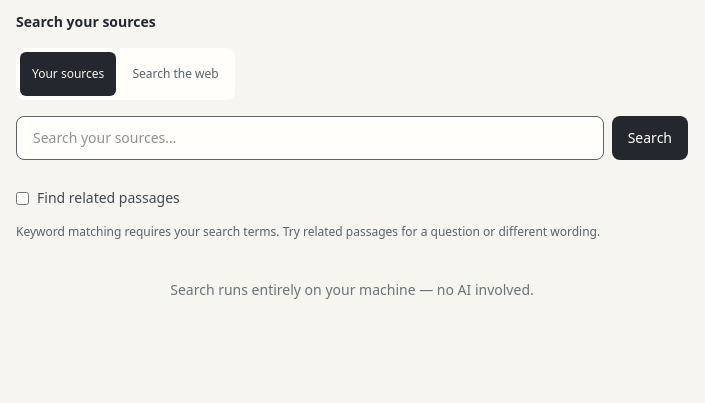
round7 item1 markdown stripped in display strings › SearchPanel shows stripped snippet and title
Type "heading" into the search field with placeholder "Search your sources…" at [310, 138], box [16,116,604,160]
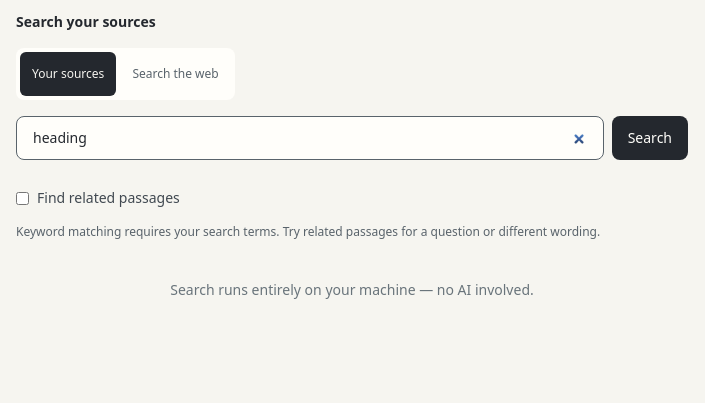
Click the button with aria-label "submit search" at [650, 138], box [612,116,688,160]
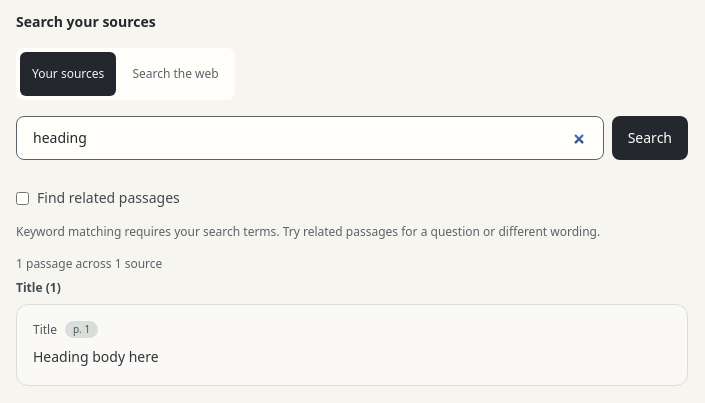
Result: the text "Title" is shown at [33,322,57,338]
Result: the text "Heading body here" is shown at [33,347,159,366]
